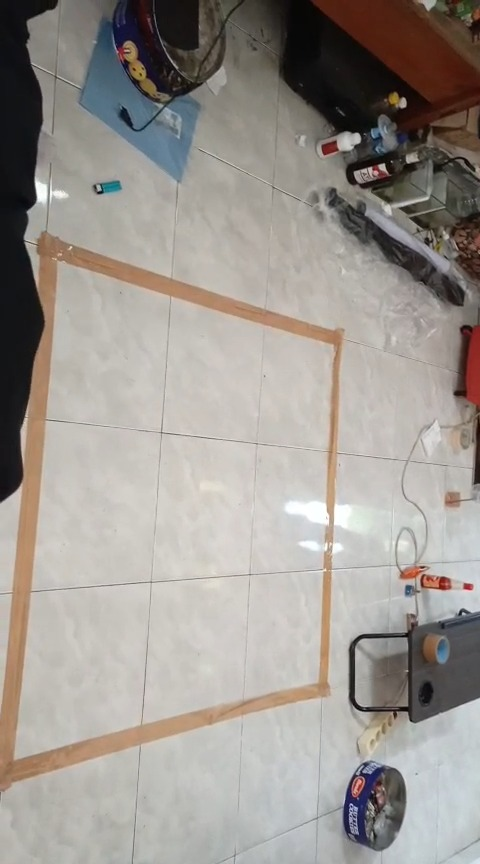floor marking: (0, 232, 342, 788)
